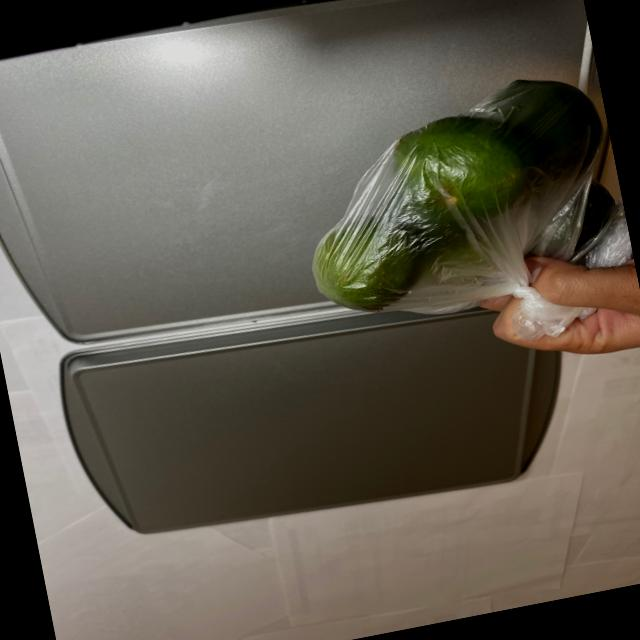lemon: (284, 62, 630, 336)
